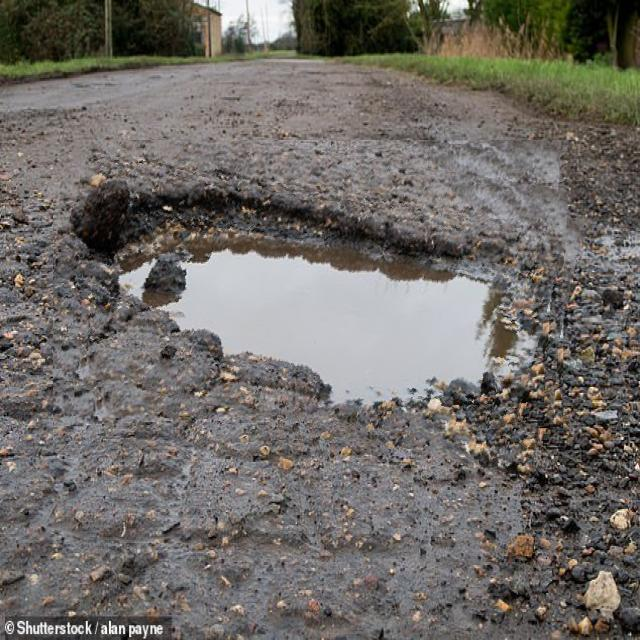Pothole: (53, 140, 574, 453)
